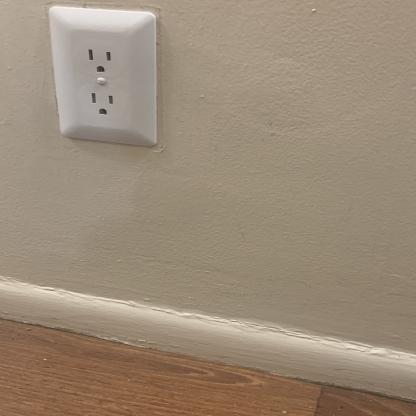OUTLET: (47, 3, 162, 149)
